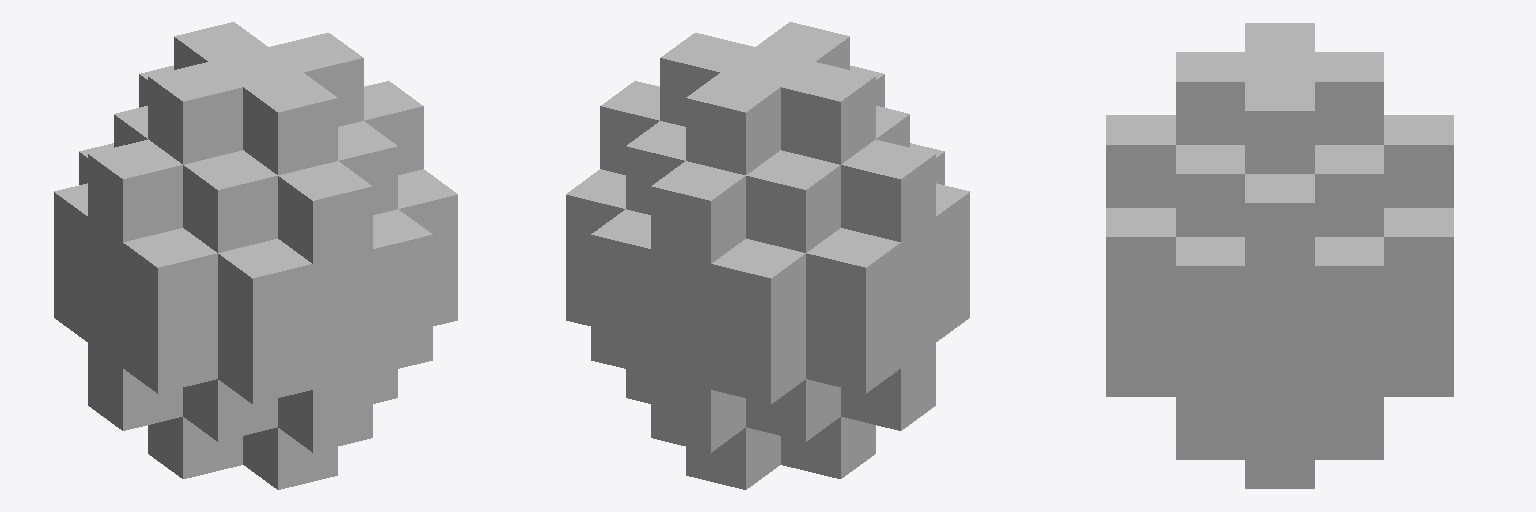
File: bullet.obj
The picture shows the model from 3 angles: view 1: azimuth 30°, elevation 25°; view 2: azimuth 150°, elevation 25°; view 3: azimuth 270°, elevation 25°; orthographic projection.
Parts seen in each view (by area): view 1: object 1; view 2: object 1; view 3: object 1.
Part boxes in pixels (left/top/right/bottom): object 1: left=54, top=22, right=457, bottom=489; object 1: left=566, top=22, right=969, bottom=489; object 1: left=1106, top=23, right=1453, bottom=488.
Bounding box in the file's own units: 0.5 × 0.6 × 0.5.